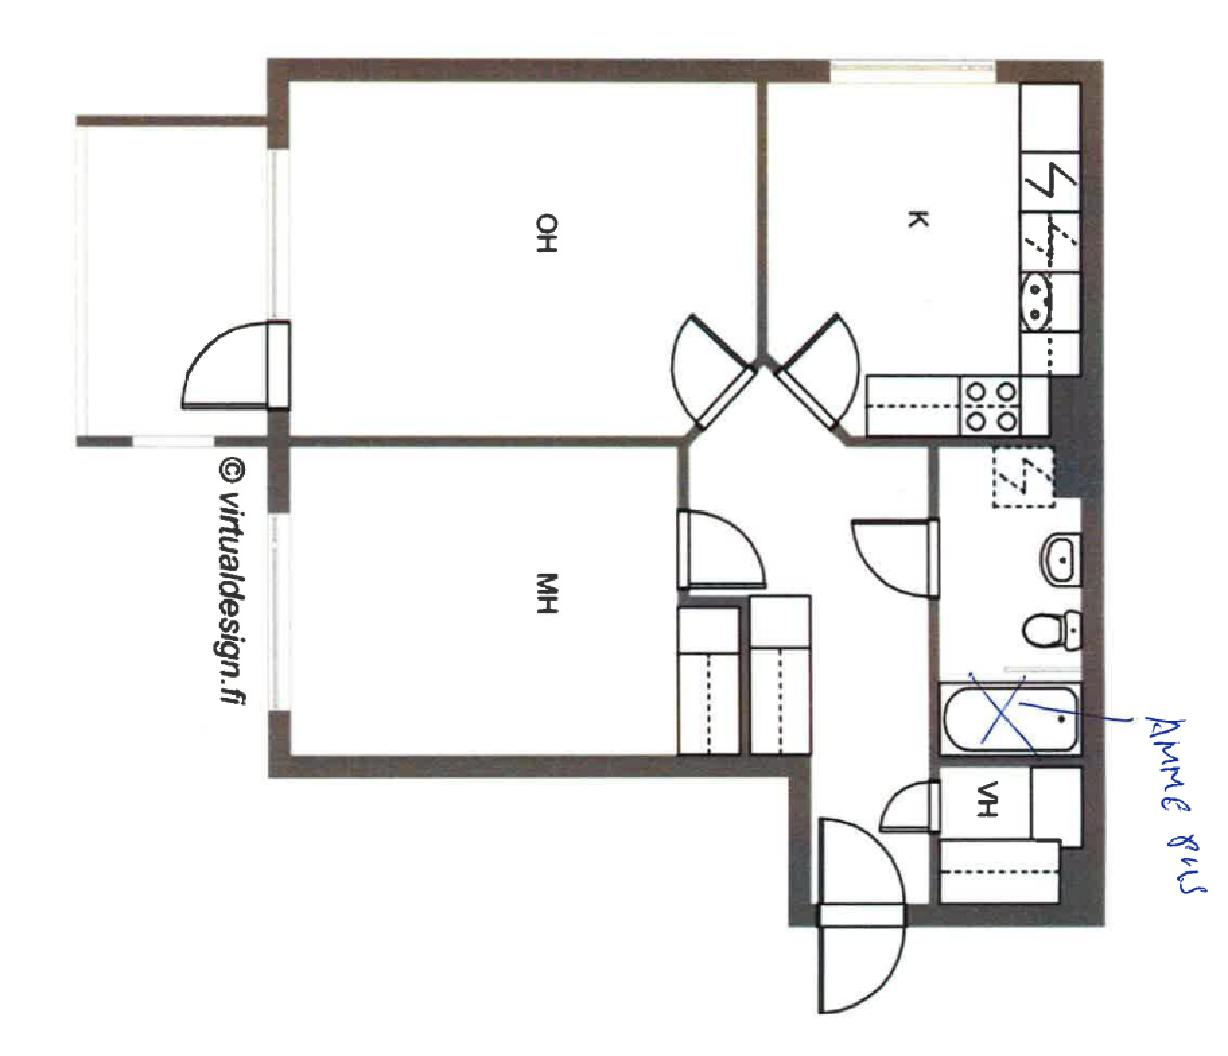door: (812, 816, 899, 1020), (769, 307, 881, 431), (663, 307, 767, 435), (175, 311, 290, 423), (846, 511, 944, 605), (674, 511, 779, 594), (866, 756, 957, 847)
window: (266, 147, 296, 324), (268, 508, 292, 715), (828, 58, 996, 83)
zone: (287, 83, 763, 433), (287, 450, 736, 766), (684, 362, 939, 901), (764, 78, 1078, 440), (82, 123, 268, 435), (944, 443, 1083, 755), (935, 762, 1091, 910)
